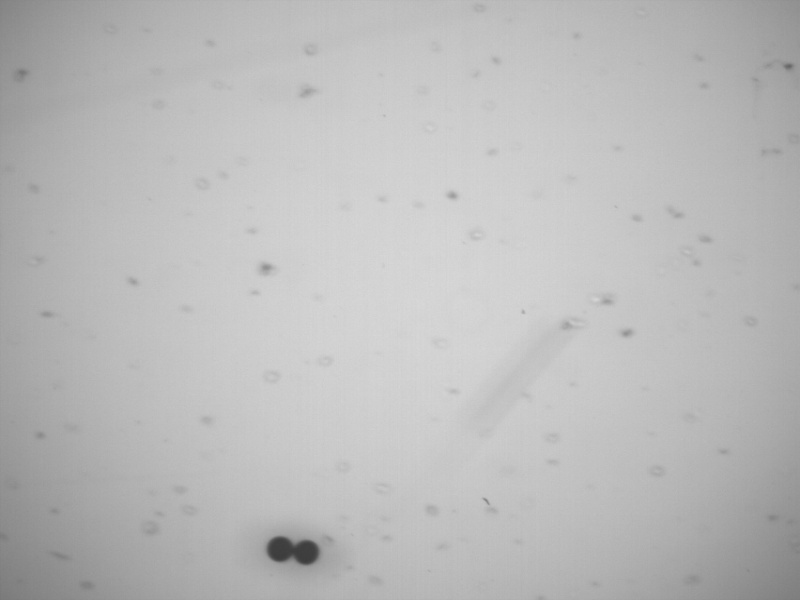bead: (292, 537, 322, 567), (265, 534, 295, 563)
